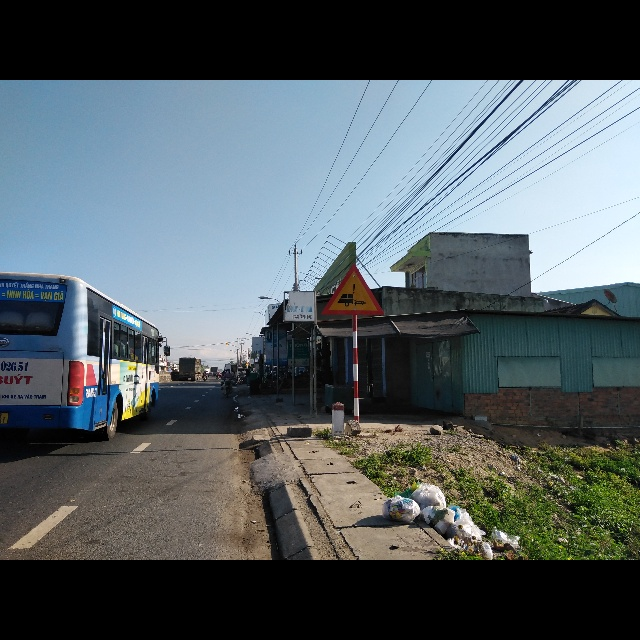Đoạn đường hay xảy ra tai nạn: (324, 262, 387, 320)
